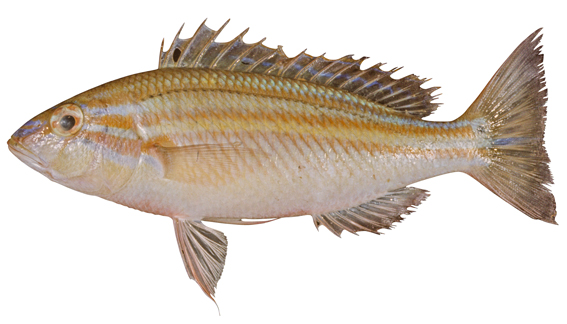fish: (7, 17, 559, 315)
